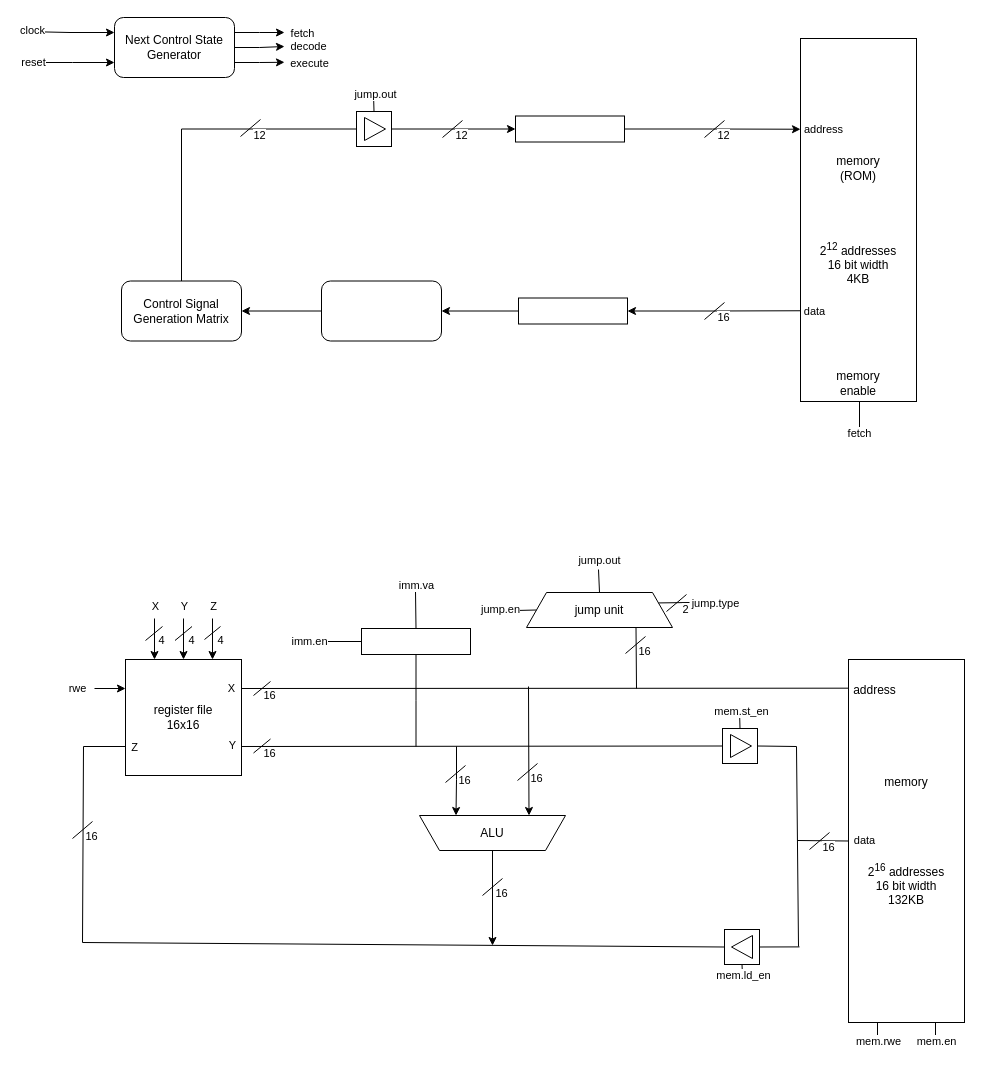
Some shapes in this 982 by 1065 pixel diagram are drawn without their labels. Each missing label, with the centre of its shape:
"immediate register" goes at (415,641).
"Instruction Decoder" goes at (381,310).
"instruction register" goes at (573,310).
"program counter" goes at (569,128).
